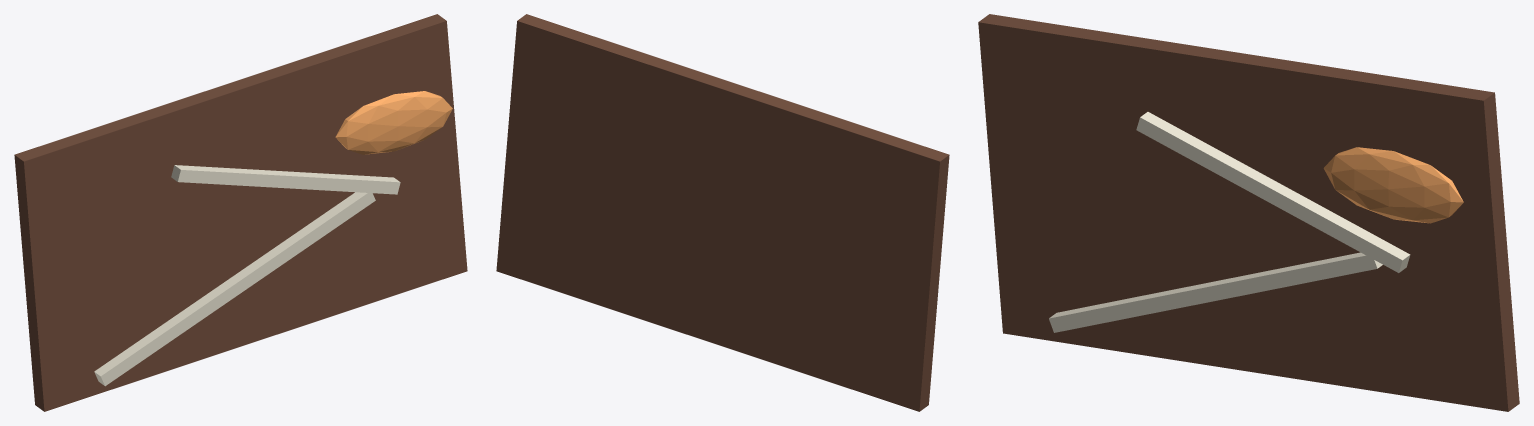
The model's file is 04_weathering_wear_overlay_4.glb.
3 renders of one model, left to right at view 1: azimuth 30°, elevation 25°; view 2: azimuth 150°, elevation 25°; view 3: azimuth 330°, elevation 25°, orthographic. The views are drawn at different scales.
Visible parts, largest first — view 1: wear_plate, scratch_a, rust_or_moss_spot, scratch_b; view 2: wear_plate; view 3: wear_plate, rust_or_moss_spot, scratch_b, scratch_a.
Part boxes in pixels (box(x1,y1,x2,y2)): wear_plate: box(14, 14, 467, 411); scratch_a: box(94, 192, 375, 386); rust_or_moss_spot: box(335, 91, 452, 154); scratch_b: box(171, 165, 400, 194); wear_plate: box(496, 14, 949, 411); wear_plate: box(978, 14, 1519, 411); rust_or_moss_spot: box(1323, 147, 1463, 223); scratch_b: box(1136, 112, 1410, 272); scratch_a: box(1049, 252, 1382, 332).
Bounding box in the file's own units: 1.36 × 0.8571 × 0.134.
